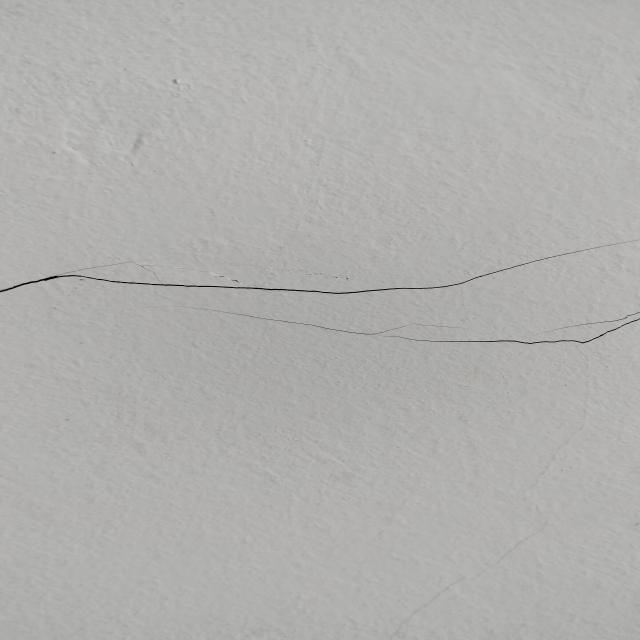Crack: (0, 235, 640, 296)
